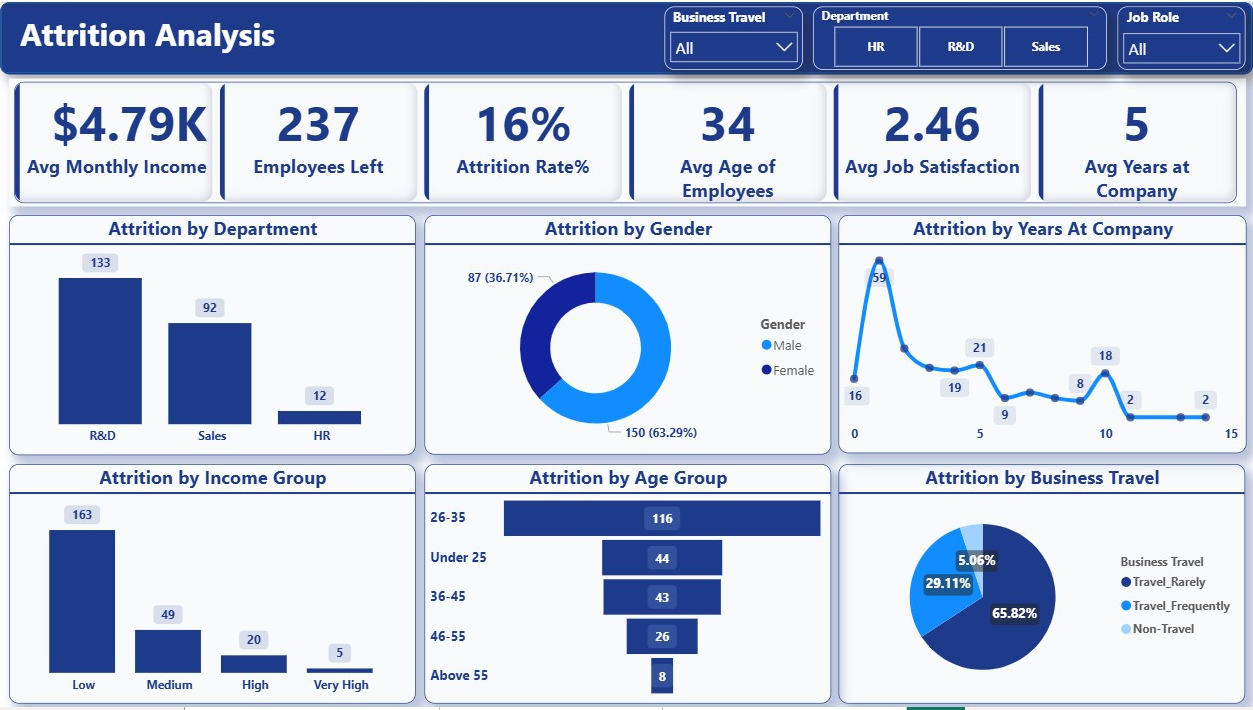

The dashboard page shown, as its layout file describes it:
{"tool":"powerbi","page":{"name":"Attrition Dashboard","canvas":[1280,720],"ordinal":1},"visuals":[{"type":"shape","box":[0,0,1280,74],"z":0},{"type":"textbox","box":[15.4,4.6,275.4,64.6],"z":1000},{"type":"cardVisual","title":"hh","fields":{"Data":["Meaures_table.Avg income left","Meaures_table.Employees Left","Meaures_table.Attrition Rate%","Meaures_table.Avg age left","Meaures_table.Avg job left","Meaures_table.Avg yrs_comp left"]},"box":[9.2,78.5,1263.1,130.8],"z":2000},{"type":"columnChart","title":"Attrition by Department","fields":{"Category":["HR_Data.Department"],"Y":["Meaures_table.Employees Left"]},"box":[9.2,217.5,415,245],"z":3000},{"type":"donutChart","title":"Attrition by Gender","fields":{"Category":["HR_Data.Gender"],"Y":["Meaures_table.Employees Left"]},"box":[433.8,216.9,415.4,244.6],"z":4000},{"type":"lineClusteredColumnComboChart","title":"Attrition by Income Group","fields":{"Category":["HR_Data.Income_Group"],"Y":["Meaures_table.Employees Left"]},"box":[9.2,472.3,415.4,244.6],"z":5000},{"type":"pieChart","title":"Attrition by Business Travel","fields":{"Y":["Meaures_table.Employees Left"],"Category":["HR_Data.Business Travel"]},"box":[856.9,472.3,415.4,244.6],"z":6000},{"type":"slicer","fields":{"Values":["HR_Data.Business Travel"]},"box":[678.5,4.6,141.5,64.6],"z":7000},{"type":"slicer","fields":{"Values":["HR_Data.Job Role"]},"box":[1141.5,4.6,130.8,64.6],"z":8000},{"type":"slicer","fields":{"Values":["HR_Data.Department"]},"box":[830.8,4.6,300,64.6],"z":9000},{"type":"funnel","title":"Attrition by Age Group","fields":{"Category":["HR_Data.Age_Group"],"Y":["Meaures_table.Employees Left"]},"box":[433.8,472.3,415.4,244.6],"z":10000},{"type":"areaChart","title":"Attrition by Years At Company","fields":{"Category":["HR_Data.Years At Company"],"Y":["Meaures_table.Employees Left"]},"box":[856.3,217.5,416.7,243.6],"z":11000}]}

Visuals, with their boxes in screenshot pixels (x1, y1, x2, y2), scaled from the page's 1280x720 canvas onto the 1253x710 screenshot:
shape: select_region(0, 0, 1252, 73)
textbox: select_region(15, 5, 285, 68)
"hh" cardVisual: select_region(9, 77, 1245, 206)
"Attrition by Department" columnChart: select_region(9, 214, 415, 456)
"Attrition by Gender" donutChart: select_region(425, 214, 831, 455)
"Attrition by Income Group" lineClusteredColumnComboChart: select_region(9, 466, 416, 707)
"Attrition by Business Travel" pieChart: select_region(839, 466, 1245, 707)
slicer - HR_Data.Business Travel: select_region(664, 5, 803, 68)
slicer - HR_Data.Job Role: select_region(1117, 5, 1245, 68)
slicer - HR_Data.Department: select_region(813, 5, 1107, 68)
"Attrition by Age Group" funnel: select_region(425, 466, 831, 707)
"Attrition by Years At Company" areaChart: select_region(838, 214, 1246, 455)
